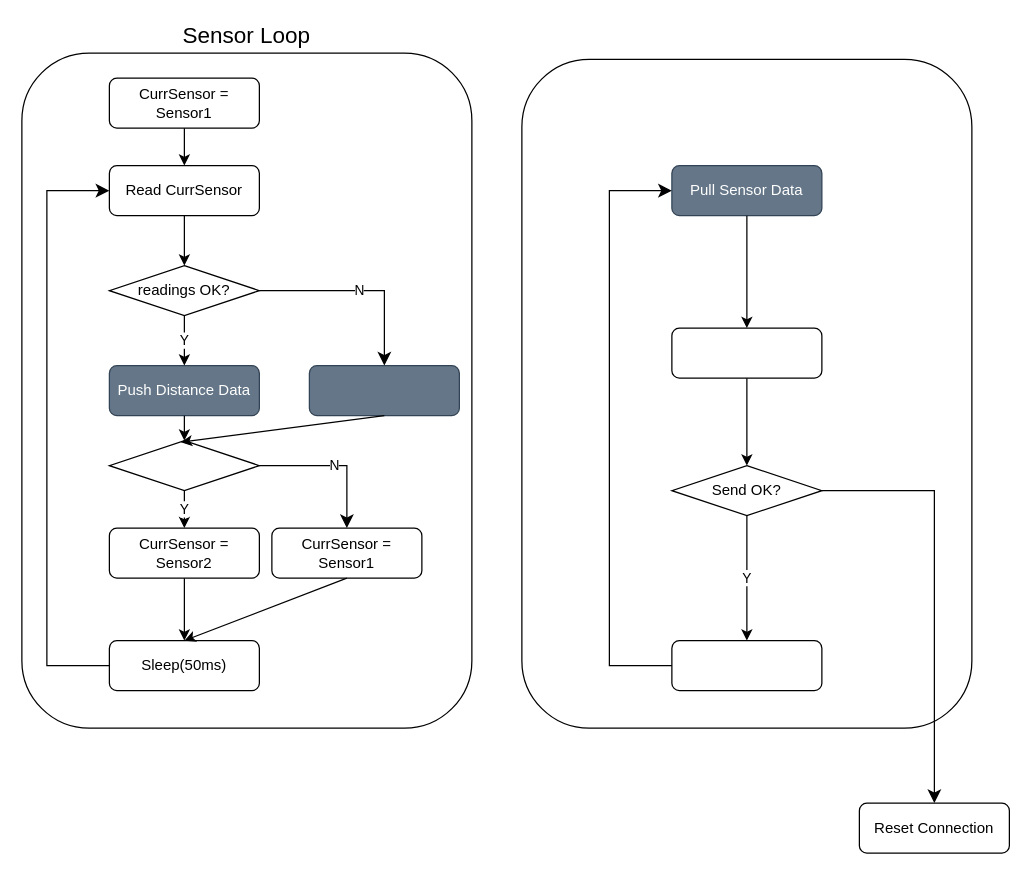
Some shapes in this 1031 by 875 pixel diagram are drawn without their labels. The shapes that lost their labels are listed below. From the top down, each one's box as (x1, y1, x2, y2) in pixels, then its label:
(671, 327, 822, 378): Send Sensor Msg
(308, 364, 459, 416): Push Error Code
(521, 58, 972, 728): Comm Loop
(108, 439, 259, 491): CurrSensor = Sensor 1
(671, 639, 822, 691): Sleep(25ms)
